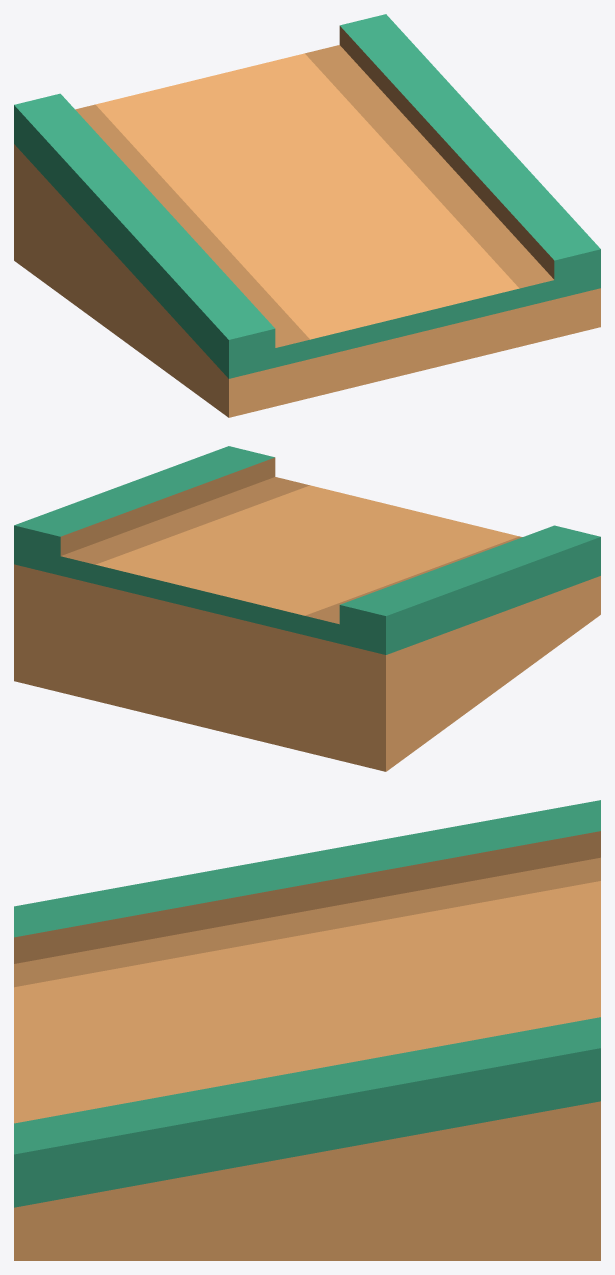
File: tile_straightHill.fbx
3 renders of one model, top to bottom at view 1: azimuth 30°, elevation 25°; view 2: azimuth 150°, elevation 25°; view 3: azimuth 270°, elevation 25°, orthographic. The views are drawn at different scales.
Parts seen in each view (by area): view 1: tile_straightHill; view 2: tile_straightHill; view 3: tile_straightHill.
Part boxes in pixels (x1,y1,x2,y2): tile_straightHill: (14,14,600,417); tile_straightHill: (14,446,600,771); tile_straightHill: (14,800,600,1260).
Bounding box in the file's own units: 10 × 4 × 10.
